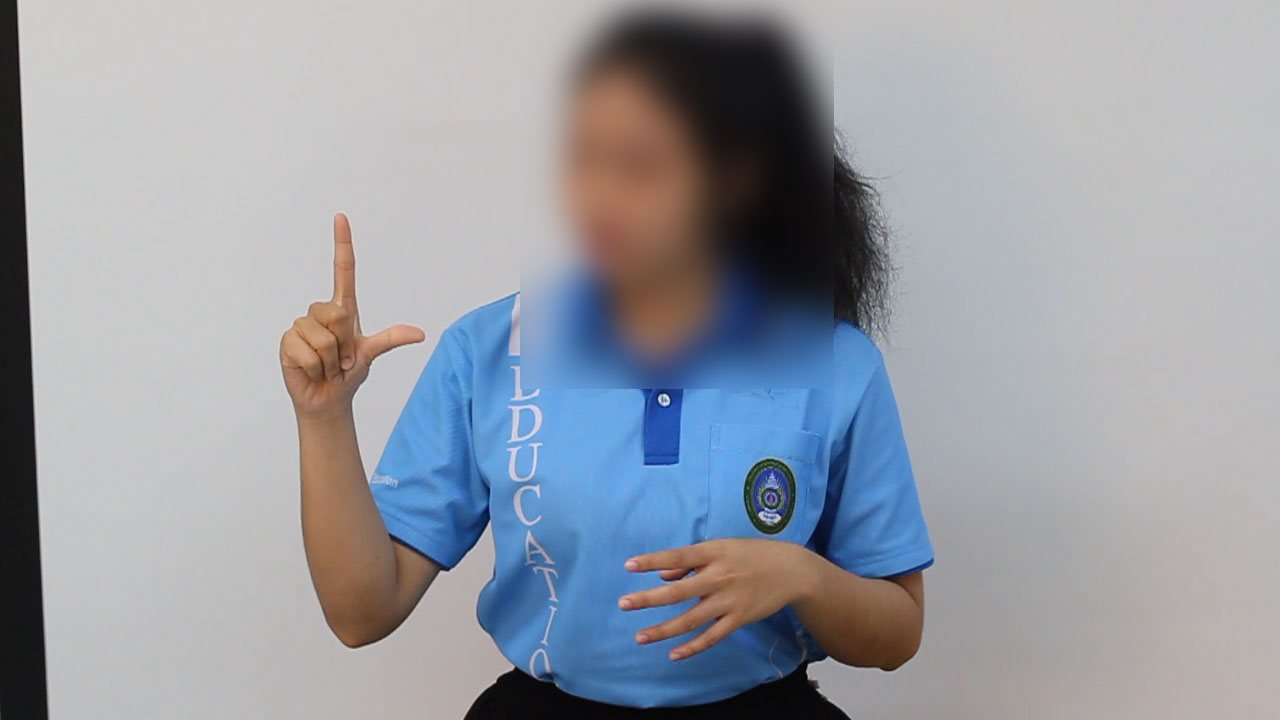lor: (186, 176, 465, 447)
